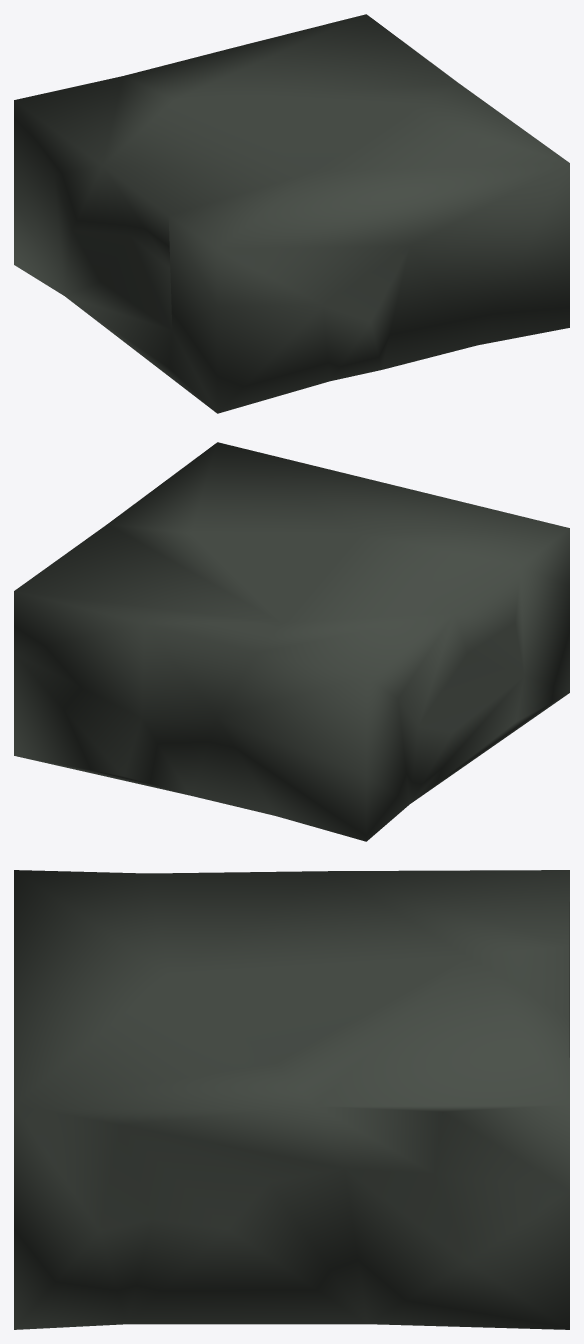
File: underrock_3.glb
3 views of the same model, one above another, from view 1: azimuth 30°, elevation 25°; view 2: azimuth 150°, elevation 25°; view 3: azimuth 270°, elevation 25° (orthographic). The views are drawn at different scales.
Parts seen in each view (by area): view 1: underrock_3; view 2: underrock_3; view 3: underrock_3.
Boxes of the visible parts, x1,y1,x2,y2 form: underrock_3: (14,14,569,413); underrock_3: (14,442,569,841); underrock_3: (14,870,569,1329).
Size of the model in its own units: 2.8 by 1.25 by 2.8.
1 material, 1 textured.
